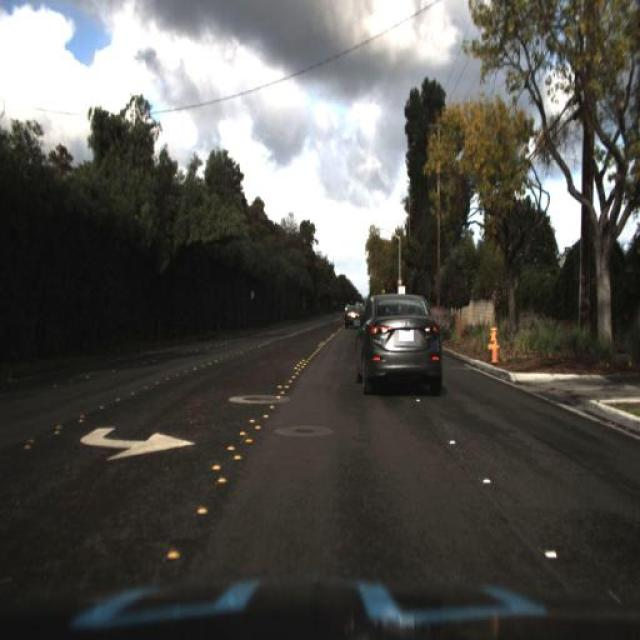car: (355, 288, 446, 401)
